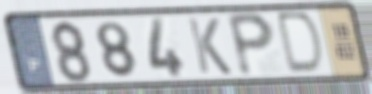4: (147, 15, 187, 80)
8: (48, 17, 93, 85), (92, 19, 141, 78)
D: (276, 10, 326, 77)
K: (185, 16, 234, 77)
P: (225, 11, 277, 80)
